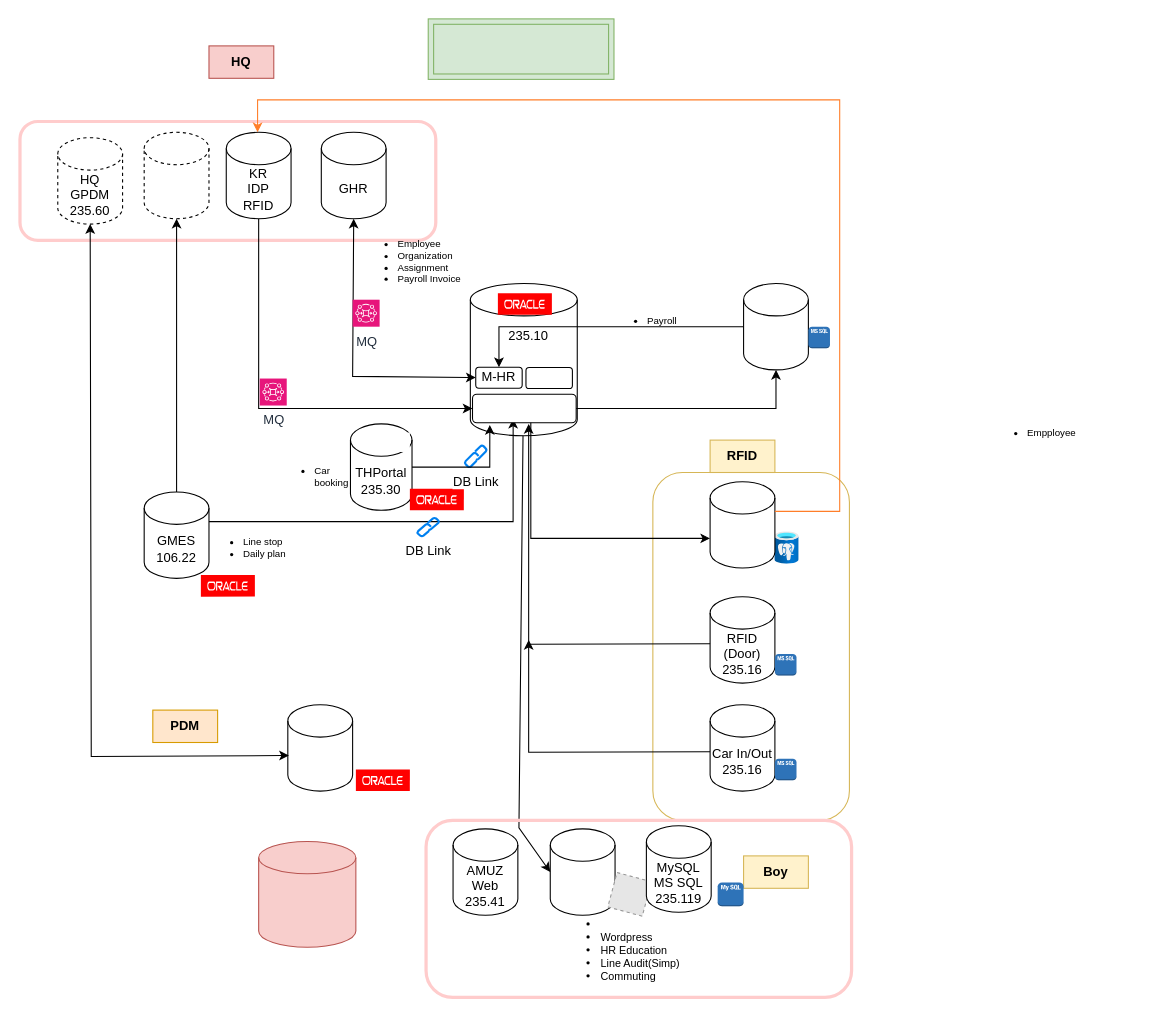
This 1174x1017 diagram has some shape labels left out. Grey dashed boxes stand in for pictures. Here are the shapes that lost their labels. From the top down, the centre of each, then its label:
At (520,48): "LGETH DB server".
At (176,175): "HQ GMES 116.22".
At (775,326): "LocalHR (BioSoft)".
At (548,377): "MCS".
At (523,408): "THPortal".
At (386,441): "DMES".
At (742,524): "IDP& Face Scan 235.125".
At (320,747): "TH GPDM 235.60".
At (582,871): "THPortal Web 235.17".
At (307,893): "NEW DB 235.11".
